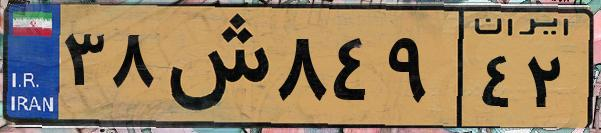2: (525, 38, 570, 115)
3: (57, 26, 110, 100)
4: (330, 28, 385, 110), (475, 38, 525, 113)
8: (270, 28, 330, 110), (110, 28, 158, 98)
9: (385, 28, 445, 110)
ش: (158, 12, 270, 120)
